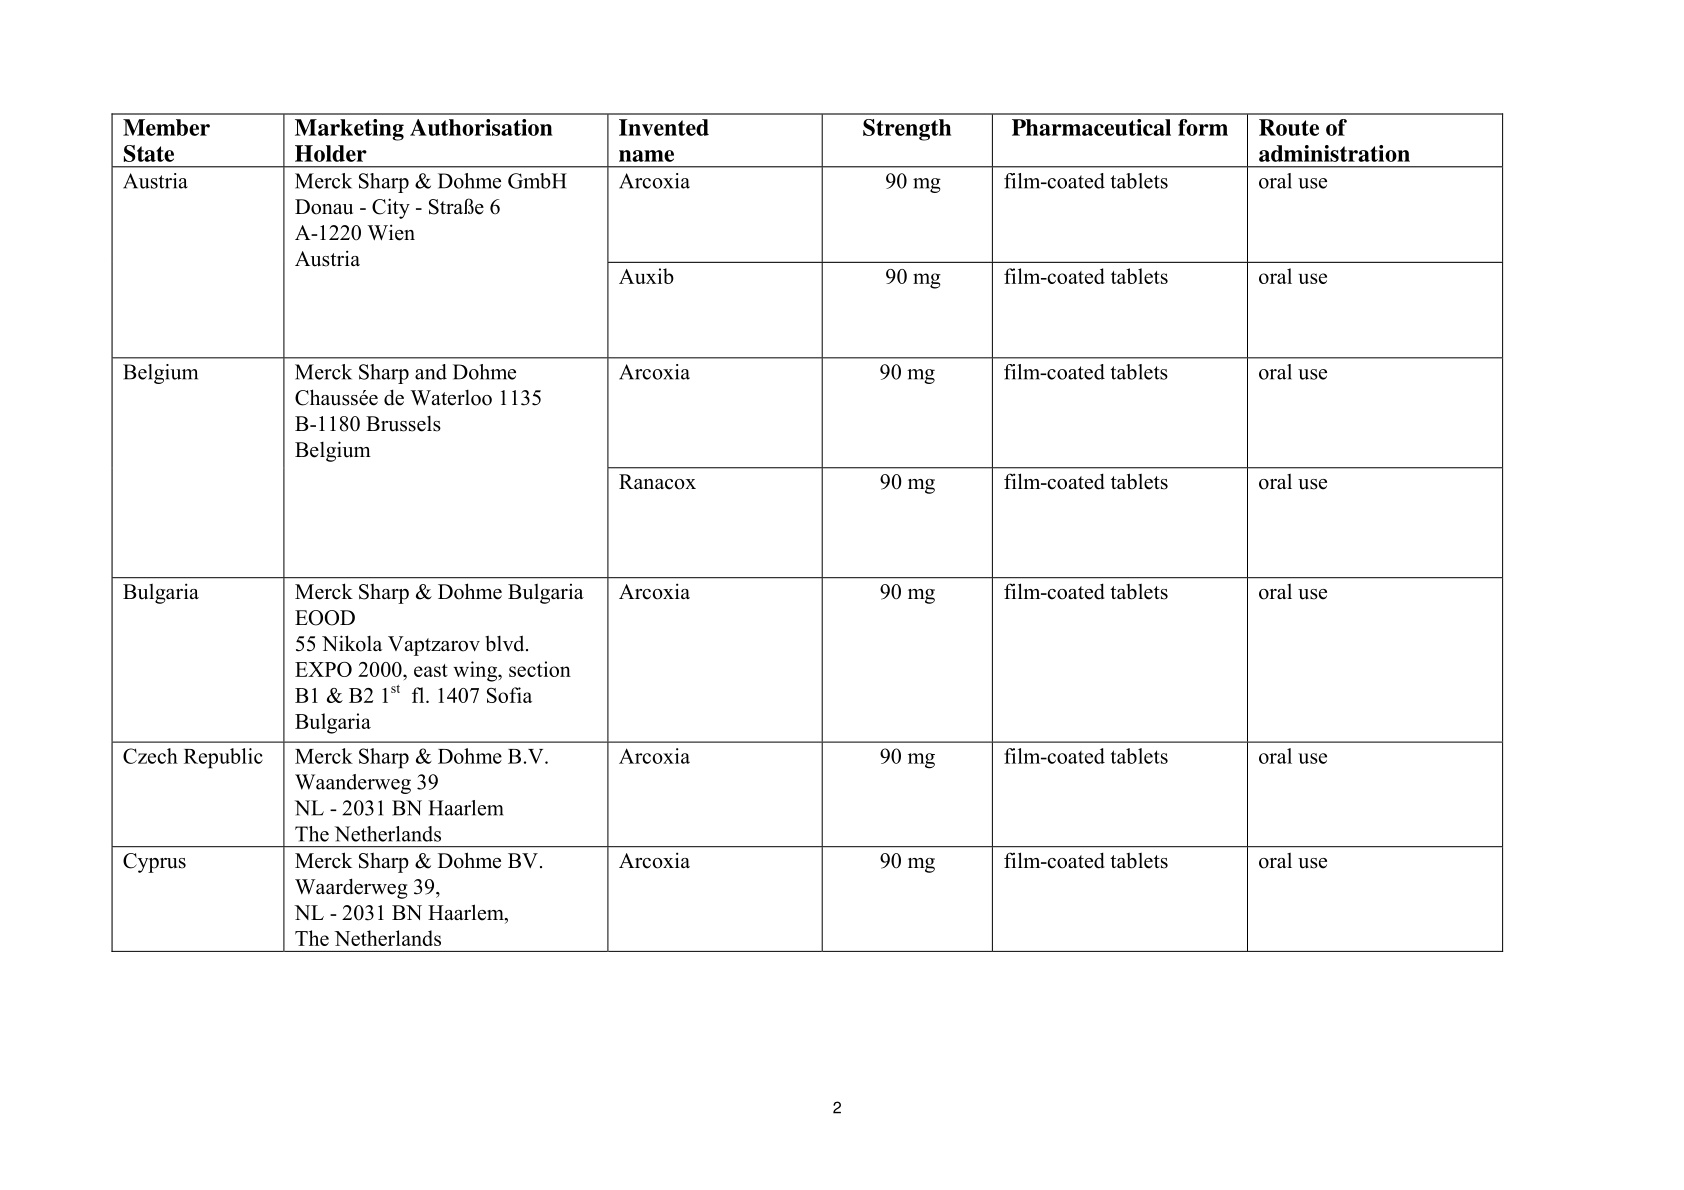merged_cells: (109, 113, 1504, 953)
